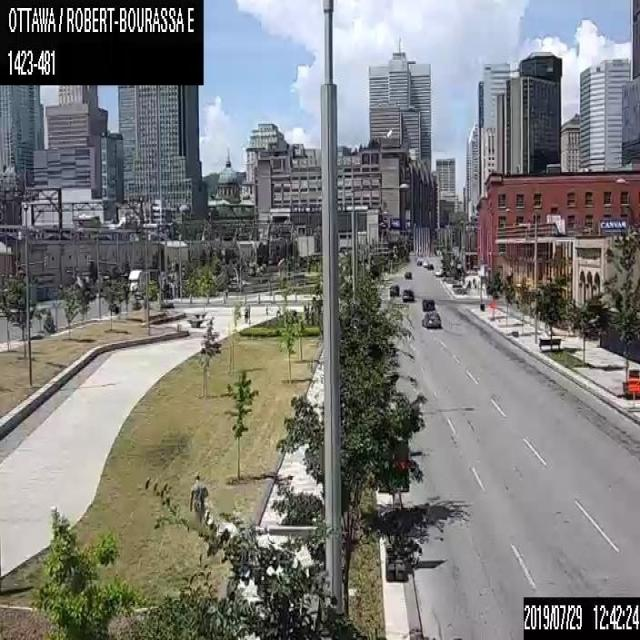construction: (378, 438, 408, 580), (626, 372, 639, 411)
pedestrian: (188, 473, 206, 527), (243, 306, 248, 322)
vehicle: (421, 309, 440, 327), (421, 297, 434, 310), (402, 288, 414, 301), (389, 284, 398, 295), (426, 262, 433, 268), (404, 271, 411, 277), (416, 259, 421, 265)
